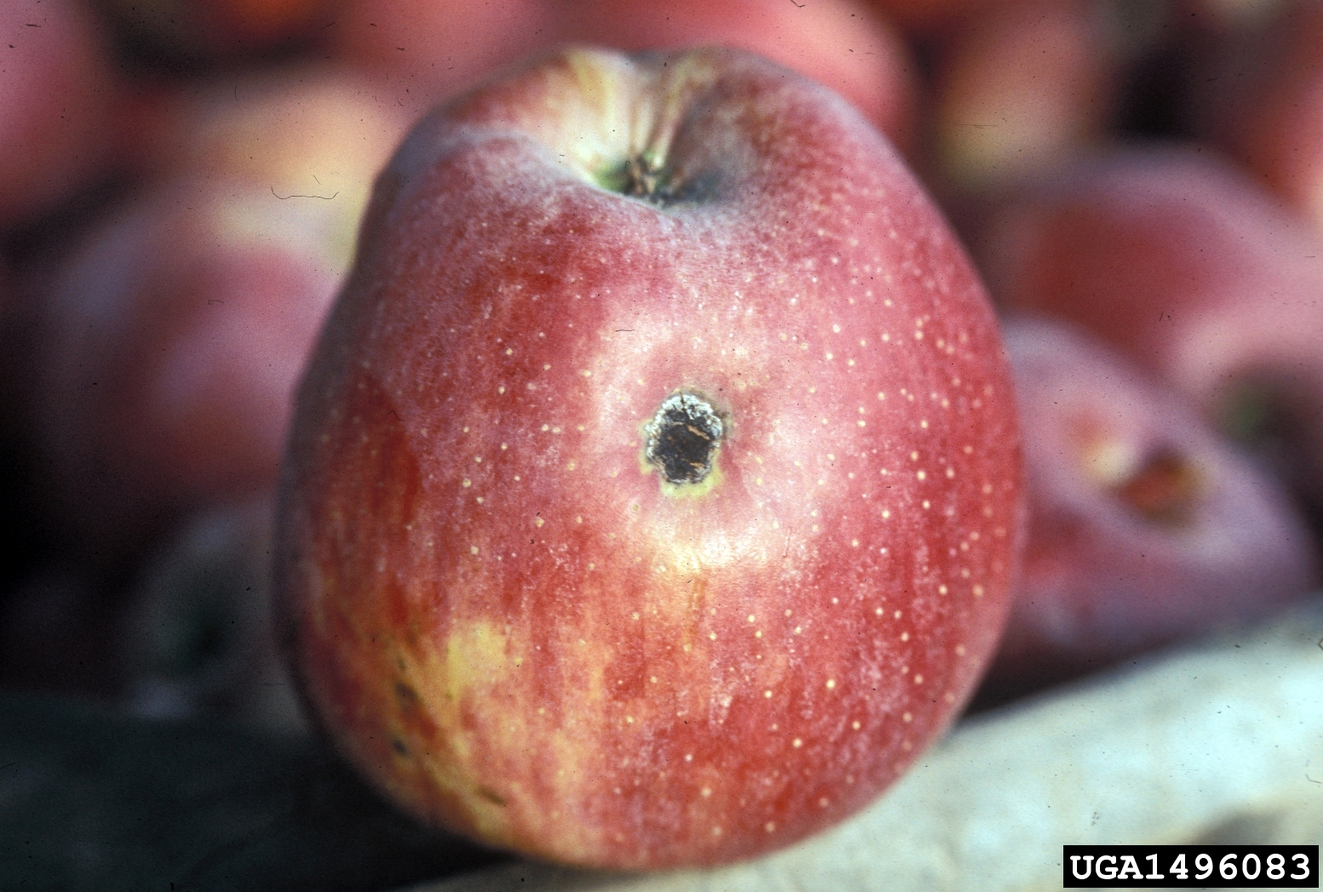defect: (577, 358, 808, 517)
